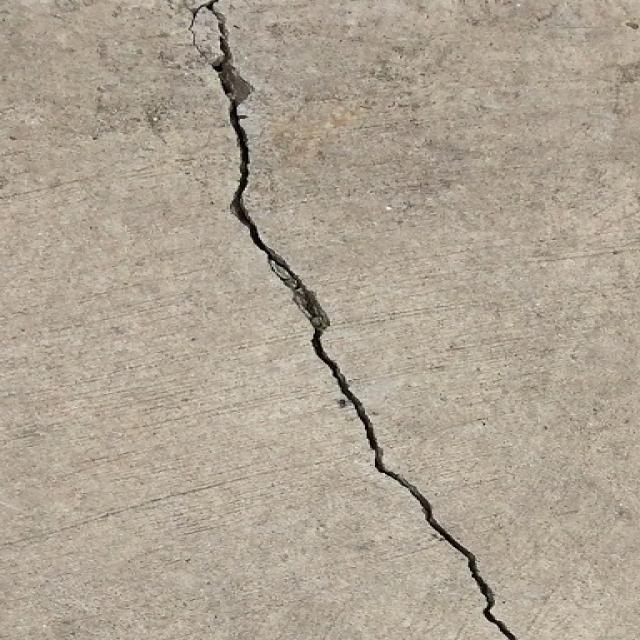crack: (190, 2, 520, 639)
